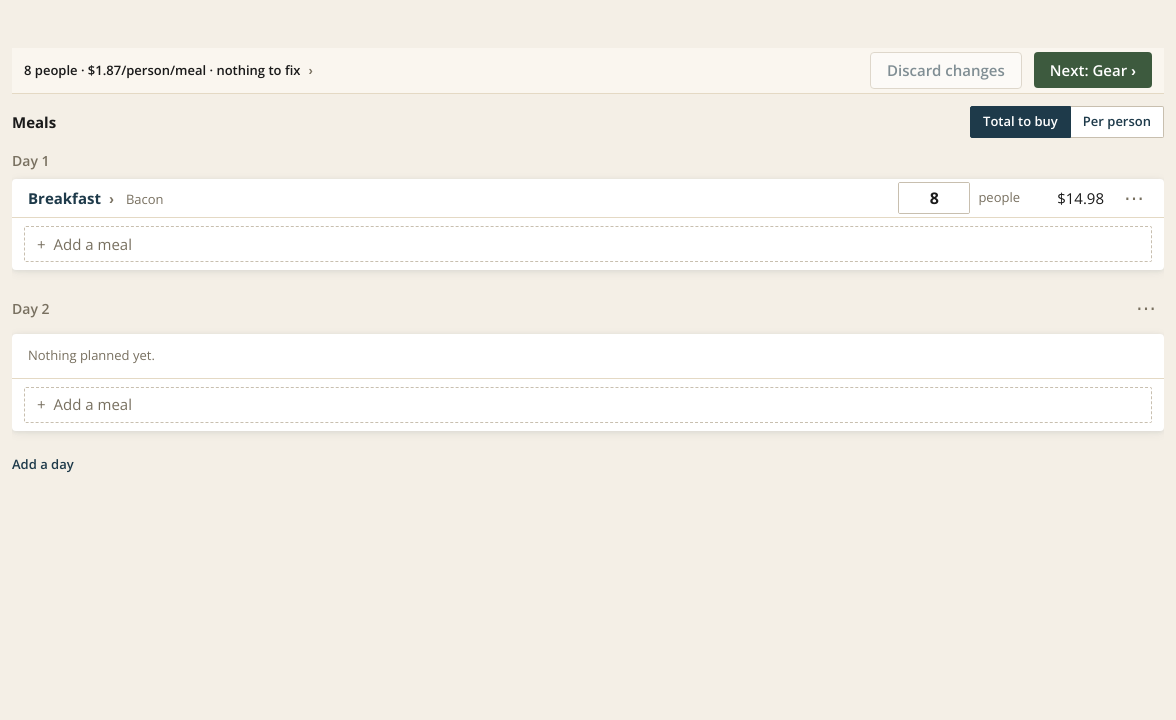
Test case: PlanTab › Discard_IsGreyedNotHidden_WhenCleanMenuShowsNext
The image size is (1176, 720).
Check: the link "Next: Gear ›" is shown, box [1034,52,1152,88]
Check: the button "Discard changes" is disabled, box [870,52,1022,88]
Click the button "Add a day": coordinates (43, 464) [12,446,74,482]
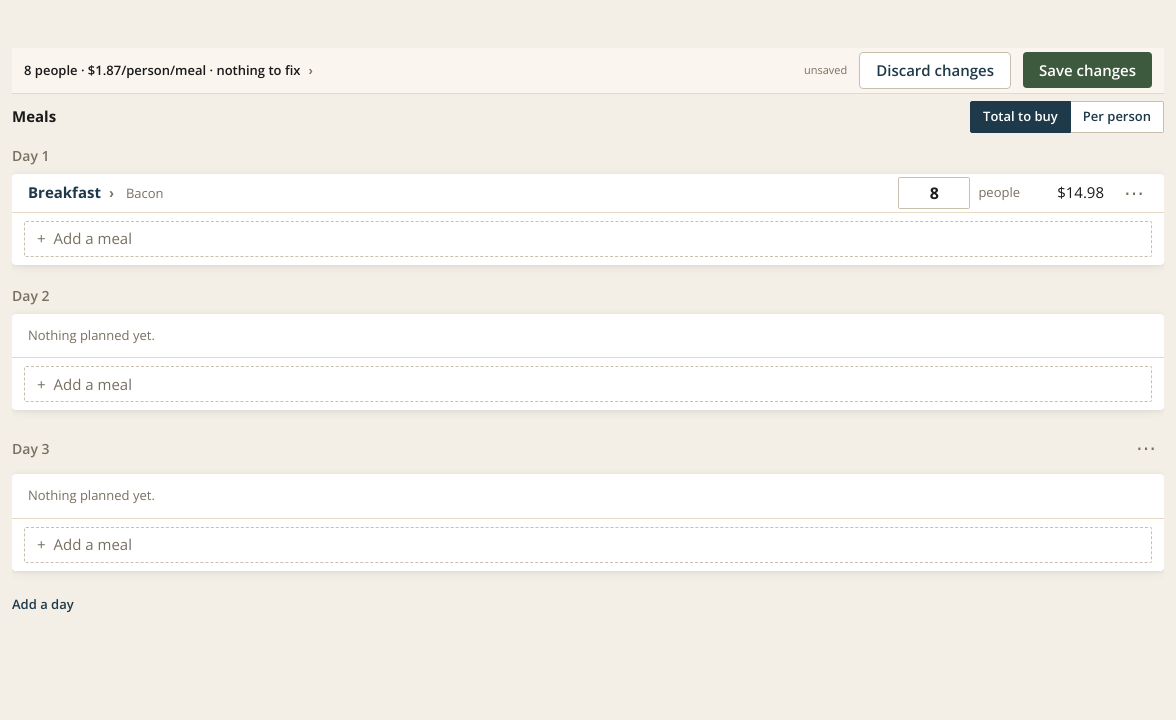
Check: the button "Discard changes" is enabled, box [859,52,1011,88]
